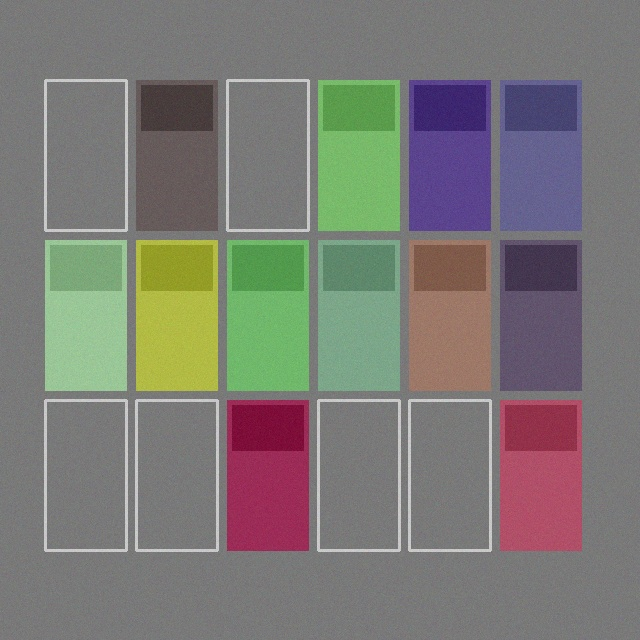space-empty: (45, 80, 126, 230), (227, 80, 308, 230), (45, 400, 126, 550), (136, 400, 217, 550), (318, 400, 399, 550), (409, 400, 490, 550)
space-occupied: (136, 80, 217, 230), (318, 80, 399, 230), (409, 80, 490, 230), (500, 80, 581, 230), (45, 240, 126, 390), (136, 240, 217, 390), (227, 240, 308, 390), (318, 240, 399, 390), (409, 240, 490, 390), (500, 240, 581, 390), (227, 400, 308, 550), (500, 400, 581, 550)
